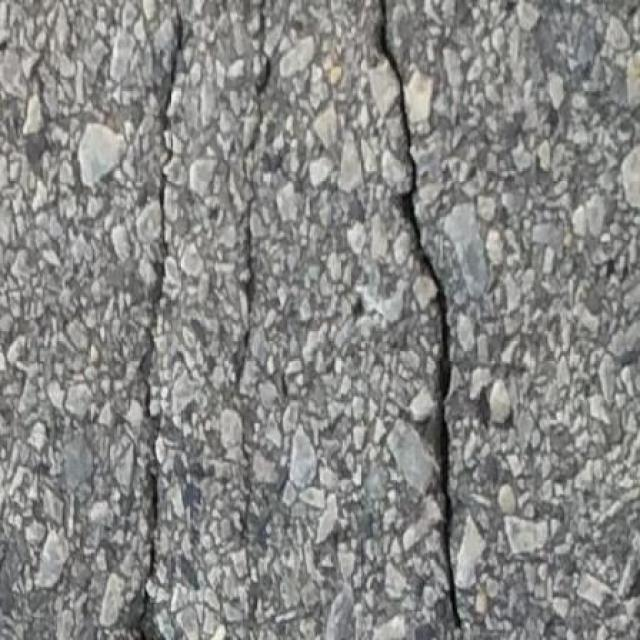Crack: (379, 0, 464, 639), (139, 0, 185, 639), (229, 0, 271, 396)
